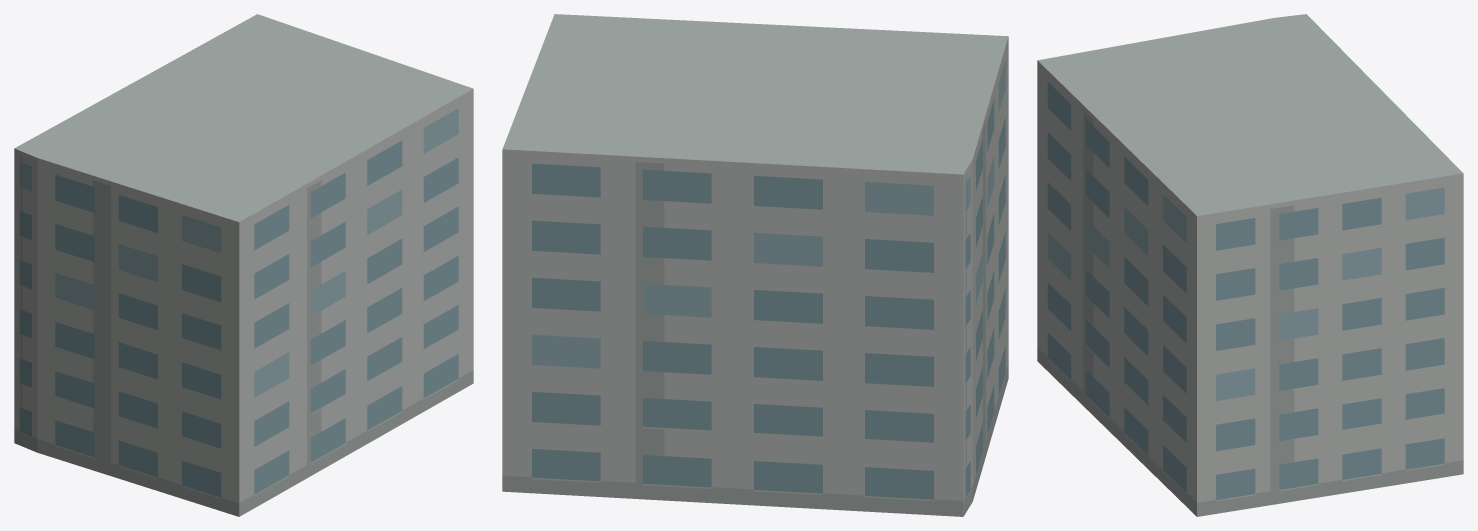
The model's file is survey-upis-32846402.glb.
The picture shows the model from 3 angles, left to right: view 1: azimuth 30°, elevation 25°; view 2: azimuth 150°, elevation 25°; view 3: azimuth 270°, elevation 25°; orthographic projection. The views are drawn at different scales.
Visible parts, largest first — view 1: survey-upis-32846402.tmp; view 2: survey-upis-32846402.tmp; view 3: survey-upis-32846402.tmp.
Boxes of the visible parts, x1,y1,x2,y2 form: survey-upis-32846402.tmp: (14, 14, 473, 516); survey-upis-32846402.tmp: (502, 14, 1008, 516); survey-upis-32846402.tmp: (1037, 14, 1463, 516).
Size of the model in its own units: 22.51 by 15.62 by 20.06.
